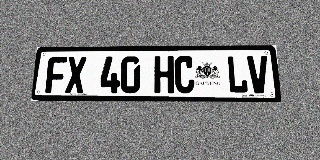0: (120, 56, 140, 93)
4: (100, 56, 121, 93)
C: (174, 56, 195, 93)
F: (45, 57, 67, 93)
H: (154, 56, 174, 93)
L: (226, 56, 249, 93)
V: (247, 56, 270, 93)
X: (65, 57, 86, 93)
